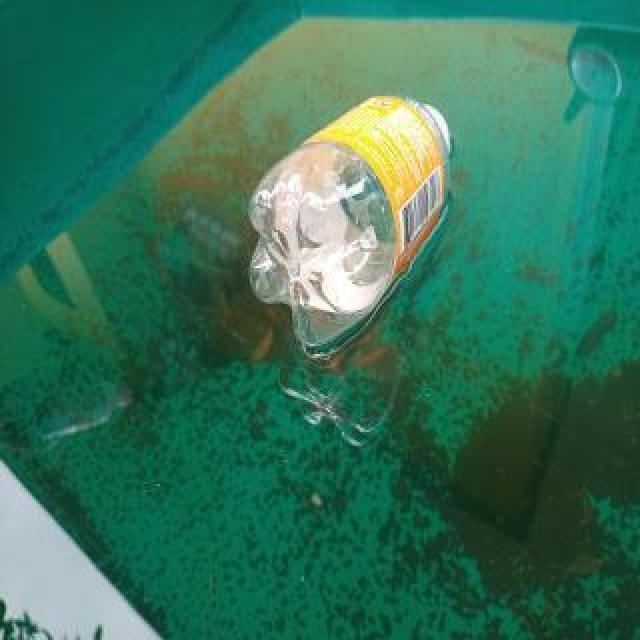bottle: (250, 93, 448, 355)
